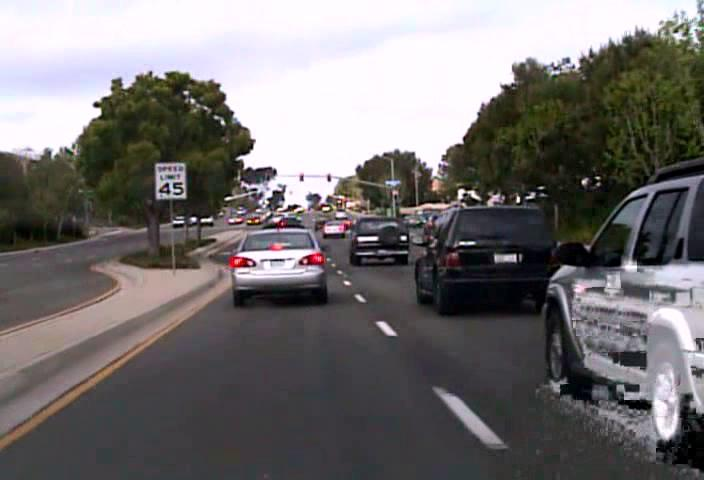speedLimit45: (154, 161, 187, 200)
